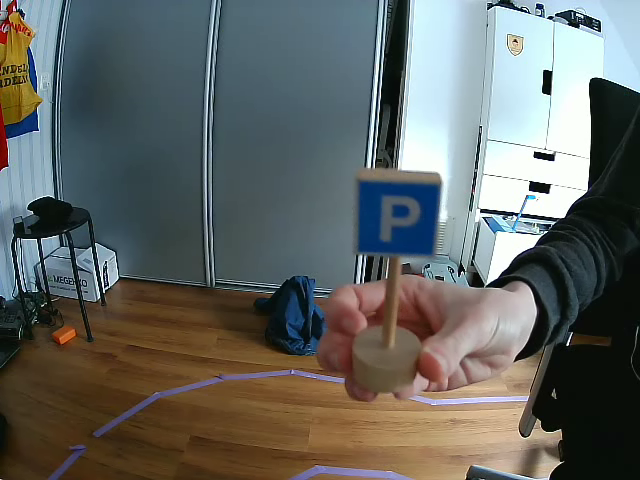parkeerbord: (354, 178, 442, 255)
